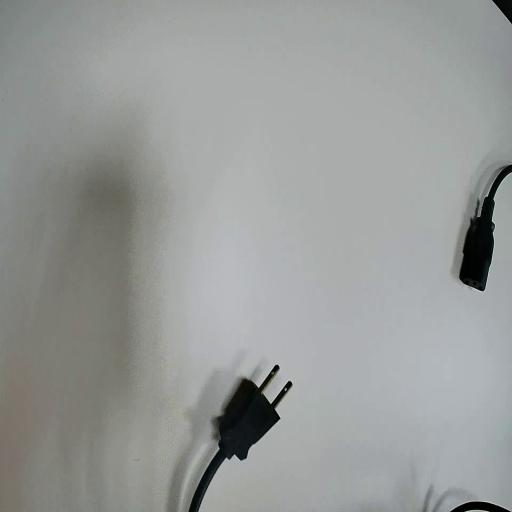wire: (189, 366, 290, 511), (460, 165, 511, 289)
